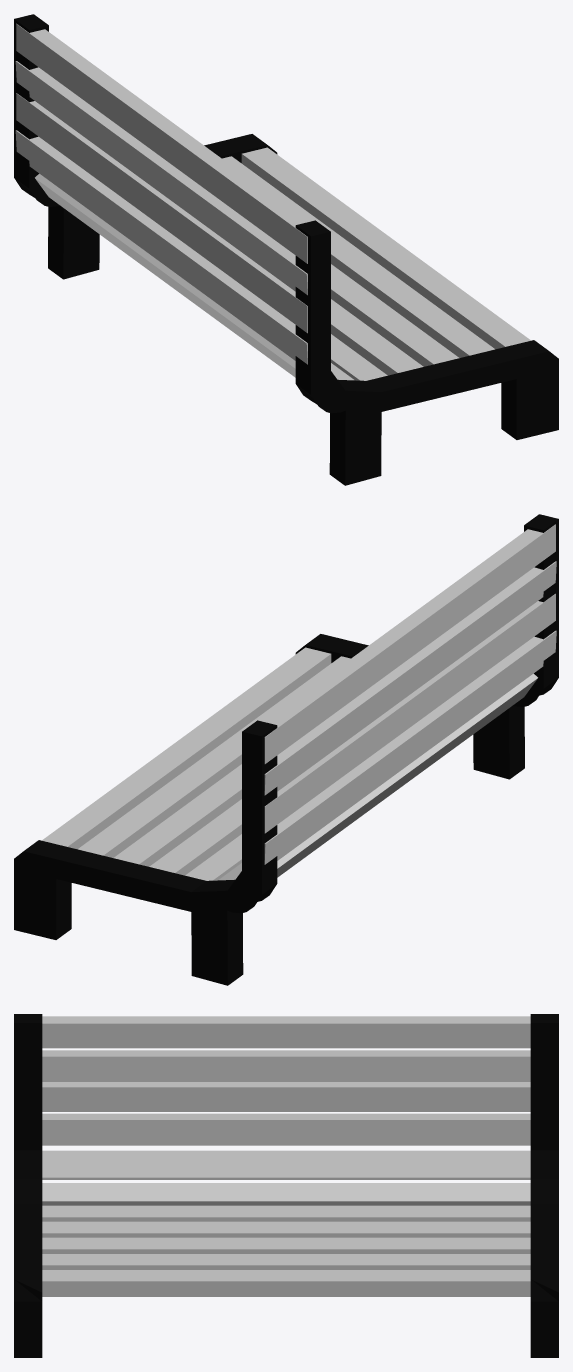
Rendered from Bench.fbx.
The picture shows the model from 3 angles, top to bottom: view 1: azimuth 30°, elevation 25°; view 2: azimuth 150°, elevation 25°; view 3: azimuth 270°, elevation 25°; orthographic projection. The views are drawn at different scales.
Parts seen in each view (by area): view 1: polySurface26, polySurface16, polySurface29; view 2: polySurface26, polySurface29, polySurface16; view 3: polySurface26, polySurface16, polySurface29.
Boxes of the visible parts, x1,y1,x2,y2 form: polySurface26: (15, 23, 530, 380); polySurface16: (295, 220, 558, 485); polySurface29: (14, 14, 277, 279); polySurface26: (42, 524, 556, 880); polySurface29: (14, 720, 277, 985); polySurface16: (295, 514, 558, 779); polySurface26: (42, 1016, 530, 1296); polySurface16: (14, 1014, 42, 1357); polySurface29: (530, 1014, 558, 1357).
Size of the model in its own units: 9.62 by 9.52 by 19.89.
